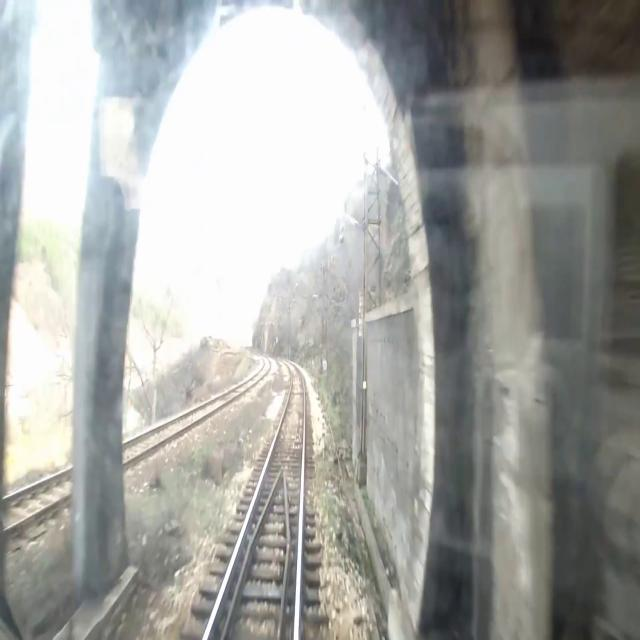rail-track: (208, 367, 302, 639), (123, 383, 246, 457), (228, 480, 284, 639), (0, 471, 71, 527)
